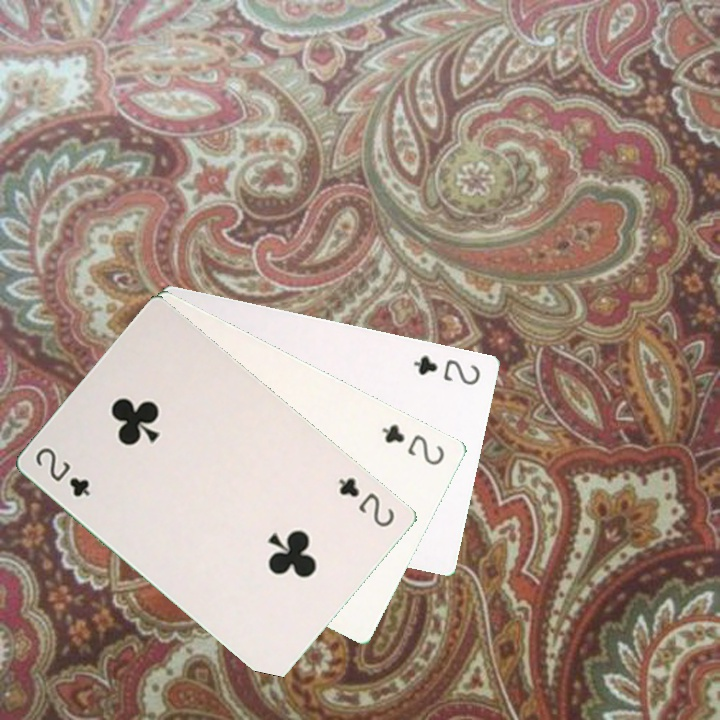2c: (334, 473, 398, 530), (31, 443, 93, 500), (377, 420, 447, 468), (409, 351, 483, 388)
